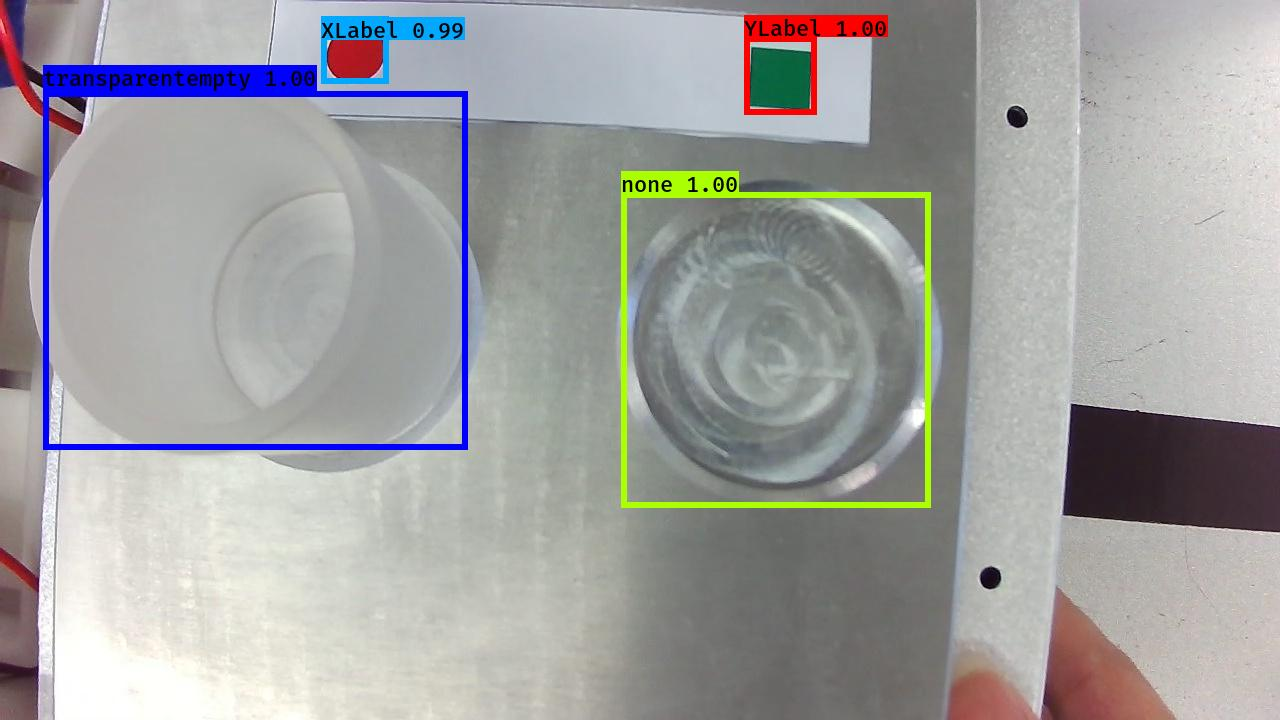XLabel: (321, 19, 390, 88)
YLabel: (743, 40, 816, 115)
none: (608, 169, 945, 509)
transparentempty: (22, 69, 491, 477)
